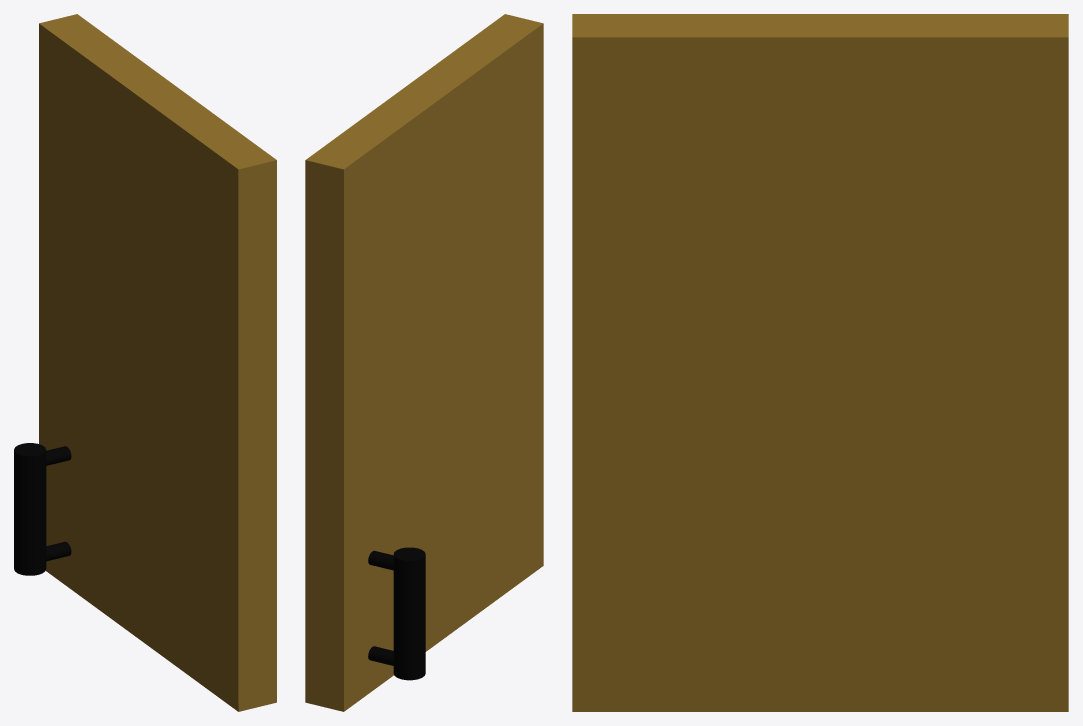
The model's file is puerta derecha.fbx.
3 renders of one model, left to right at view 1: azimuth 30°, elevation 25°; view 2: azimuth 150°, elevation 25°; view 3: azimuth 270°, elevation 25°, orthographic. The views are drawn at different scales.
Parts seen in each view (by area): view 1: Box027; view 2: Box027; view 3: Box027.
Boxes of the visible parts, bbox=[...] form: Box027: bbox=[14, 14, 276, 711]; Box027: bbox=[305, 14, 543, 711]; Box027: bbox=[572, 14, 1068, 711].
Bounding box in the file's own units: 8.96 × 51.96 × 34.66.
